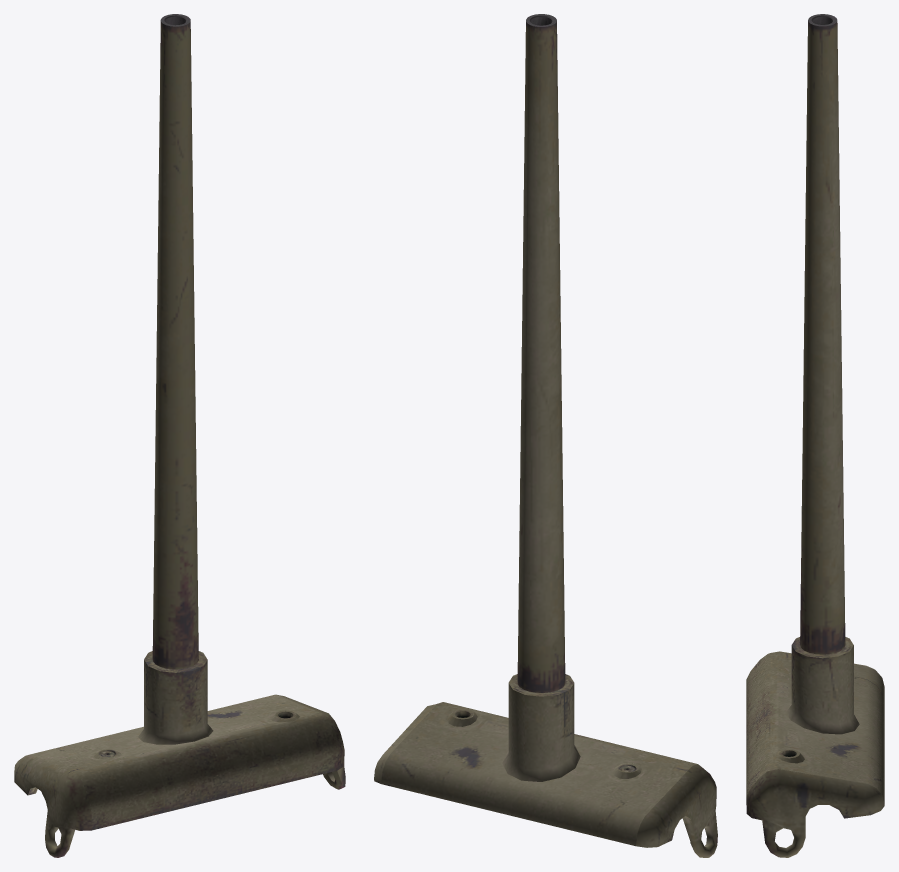
File: Gun_05.glb
3 renders of one model, left to right at view 1: azimuth 30°, elevation 25°; view 2: azimuth 150°, elevation 25°; view 3: azimuth 270°, elevation 25°, orthographic. The views are drawn at different scales.
Visible parts, largest first — view 1: set_0_group_0; view 2: set_0_group_0; view 3: set_0_group_0.
Boxes of the visible parts, x1,y1,x2,y2 form: set_0_group_0: (14, 14, 345, 857); set_0_group_0: (374, 14, 717, 857); set_0_group_0: (746, 14, 884, 857).
Size of the model in its own units: 1.23 by 3.18 by 0.5169.
1 material, 1 textured.
